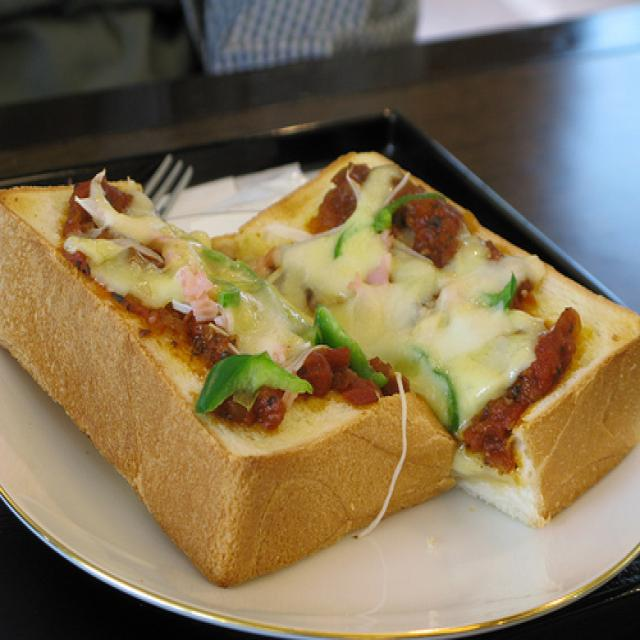面包点心: (0, 191, 640, 640)
